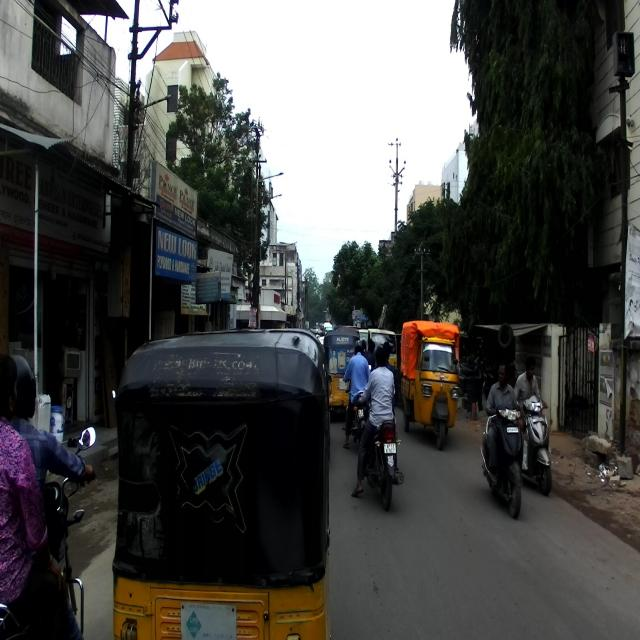autorickshaw: (111, 326, 330, 640), (398, 319, 459, 450)
motorcycle: (0, 422, 96, 639), (357, 396, 403, 510), (343, 362, 372, 455)
scooter: (479, 399, 528, 520), (513, 390, 552, 496)
